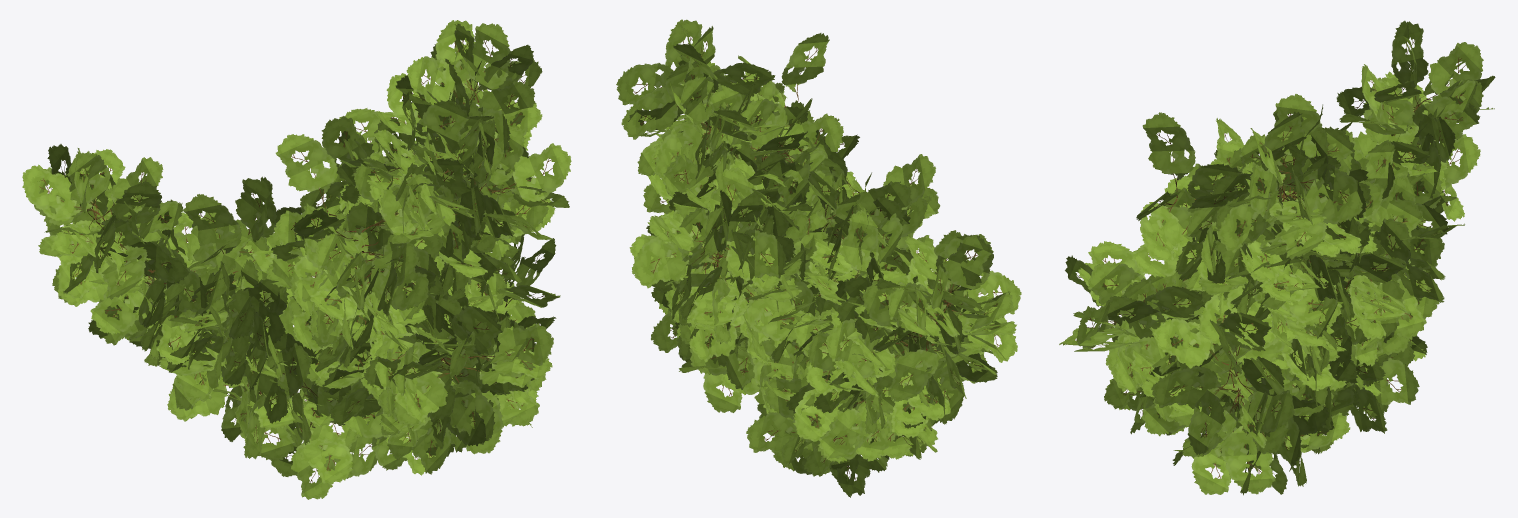
File: leaves.fbx
3 views of the same model, side by side, from view 1: azimuth 30°, elevation 25°; view 2: azimuth 150°, elevation 25°; view 3: azimuth 270°, elevation 25° (orthographic). The views are drawn at different scales.
Parts seen in each view (by area): view 1: greens.893, greens.389, greens.425, greens.659, greens.145, greens.781, greens.871, greens.169, greens.149, greens.796, greens.818, greens.427 (+86 smaller); view 2: greens.624, greens.336, greens.669, greens.657, greens.357, greens.157, greens.628, greens.405, greens.222, greens.165, greens.865, greens.146 (+84 smaller); view 3: greens.357, greens.684, greens.692, greens.709, greens.417, greens.361, greens.337, greens.677, greens.393, greens.401, greens.789, greens.271 (+84 smaller).
Boxes of the visible parts, bbox=[...] form: greens.893: bbox=[275, 134, 337, 211]; greens.389: bbox=[491, 143, 571, 201]; greens.425: bbox=[22, 164, 99, 221]; greens.659: bbox=[183, 194, 241, 253]; greens.145: bbox=[463, 23, 510, 100]; greens.781: bbox=[470, 323, 553, 377]; greens.871: bbox=[416, 100, 469, 153]; greens.169: bbox=[299, 430, 353, 484]; greens.149: bbox=[406, 56, 464, 105]; greens.796: bbox=[449, 380, 495, 444]; greens.818: bbox=[393, 370, 449, 425]; greens.427: bbox=[90, 279, 144, 335]; greens.624: bbox=[632, 231, 690, 288]; greens.336: bbox=[887, 340, 939, 401]; greens.669: bbox=[745, 289, 808, 342]; greens.657: bbox=[840, 209, 878, 278]; greens.357: bbox=[781, 33, 829, 101]; greens.157: bbox=[621, 86, 678, 139]; greens.628: bbox=[716, 229, 786, 280]; greens.405: bbox=[616, 63, 679, 107]; greens.222: bbox=[746, 412, 800, 452]; greens.165: bbox=[763, 113, 843, 166]; greens.865: bbox=[739, 98, 787, 148]; greens.146: bbox=[654, 122, 710, 181]; greens.357: bbox=[1142, 112, 1195, 197]; greens.684: bbox=[1221, 425, 1275, 494]; greens.692: bbox=[1151, 366, 1237, 408]; greens.709: bbox=[1153, 318, 1228, 368]; greens.417: bbox=[1415, 42, 1483, 108]; greens.361: bbox=[1140, 199, 1183, 261]; greens.337: bbox=[1391, 20, 1428, 106]; greens.677: bbox=[1187, 373, 1229, 454]; greens.393: bbox=[1274, 94, 1322, 179]; greens.401: bbox=[1302, 173, 1362, 224]; greens.789: bbox=[1105, 295, 1165, 338]; greens.271: bbox=[1366, 357, 1419, 405].
Size of the model in its own units: 1316 by 1223 by 1079.
Materials: 1 (1 with a texture image).
